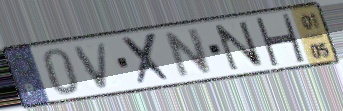0: (40, 47, 83, 97)
H: (252, 13, 307, 67)
N: (211, 20, 267, 73), (163, 26, 215, 81)
V: (72, 40, 112, 91)
X: (119, 30, 175, 88)
